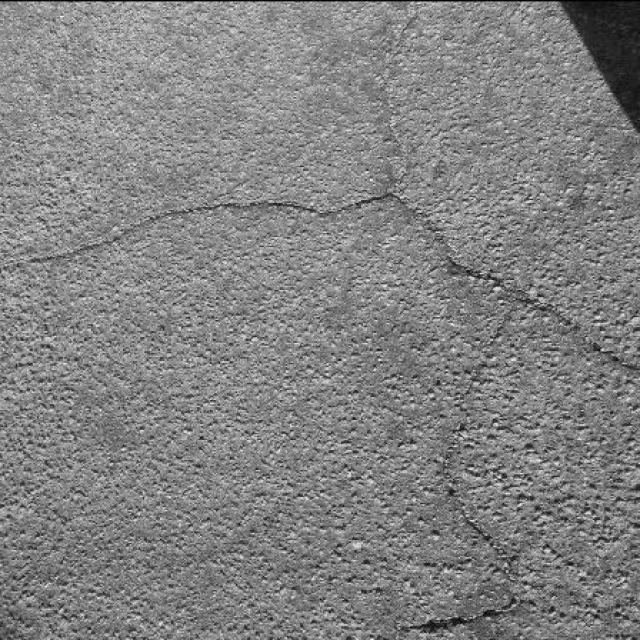Crack: (196, 189, 639, 601), (11, 208, 191, 265), (385, 4, 416, 181), (418, 600, 509, 626)
